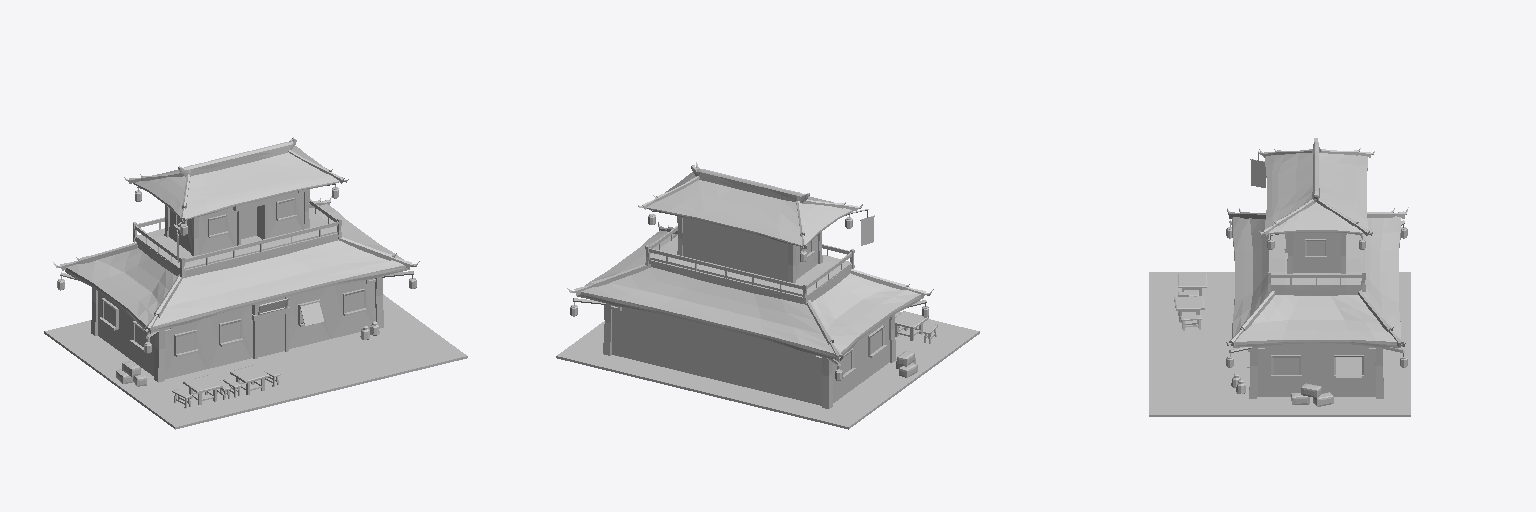
Rendered from HouseRemodel2.obj.
3 views of the same model, side by side, from view 1: azimuth 30°, elevation 25°; view 2: azimuth 150°, elevation 25°; view 3: azimuth 270°, elevation 25° (orthographic).
Parts seen in each view (by area): view 1: Cube.011_Cube, Cube.006_Cube.037, Cube.030_Cube.028, Cube.047_Cube.064, Cube.043_Cube.060, Cube.031_Cube.043, Cube.034_Cube.048, Cube.000_Cube.029, Cube.015_Cube.017; view 2: Cube.011_Cube, Cube.032_Cube.044, Cube.006_Cube.037, Cube.047_Cube.064, Cube.031_Cube.043, Cube.034_Cube.048, Cube.000_Cube.029, Cube.045_Cube.062, Cube.018_Cube.011; view 3: Cube.006_Cube.037, Cube.011_Cube, Cube.047_Cube.064, Cube.026_Cube.020, Cube.046_Cube.063, Cube.034_Cube.048, Cube.027_Cube.024.
Part boxes in pixels (left/top/right/bottom): Cube.011_Cube: left=65, top=204, right=409, bottom=332; Cube.006_Cube.037: left=44, top=294, right=467, bottom=429; Cube.030_Cube.028: left=165, top=278, right=375, bottom=378; Cube.047_Cube.064: left=133, top=139, right=339, bottom=219; Cube.043_Cube.060: left=199, top=191, right=304, bottom=254; Cube.031_Cube.043: left=98, top=292, right=154, bottom=375; Cube.034_Cube.048: left=133, top=199, right=341, bottom=276; Cube.000_Cube.029: left=183, top=375, right=222, bottom=404; Cube.015_Cube.017: left=230, top=365, right=269, bottom=394; Cube.011_Cube: left=577, top=230, right=922, bottom=359; Cube.032_Cube.044: left=612, top=218, right=821, bottom=405; Cube.006_Cube.037: left=556, top=312, right=979, bottom=429; Cube.047_Cube.064: left=647, top=165, right=852, bottom=246; Cube.031_Cube.043: left=832, top=318, right=889, bottom=402; Cube.034_Cube.048: left=645, top=226, right=854, bottom=303; Cube.000_Cube.029: left=895, top=311, right=928, bottom=340; Cube.045_Cube.062: left=795, top=236, right=817, bottom=279; Cube.018_Cube.011: left=822, top=356, right=832, bottom=408; Cube.006_Cube.037: left=1149, top=272, right=1410, bottom=416; Cube.011_Cube: left=1232, top=216, right=1400, bottom=347; Cube.047_Cube.064: left=1265, top=138, right=1367, bottom=233; Cube.026_Cube.020: left=1257, top=344, right=1375, bottom=396; Cube.046_Cube.063: left=1293, top=233, right=1340, bottom=272; Cube.034_Cube.048: left=1268, top=234, right=1365, bottom=291; Cube.027_Cube.024: left=1336, top=357, right=1361, bottom=377.
Bounding box in the file's own units: 159 × 93.83 × 124.